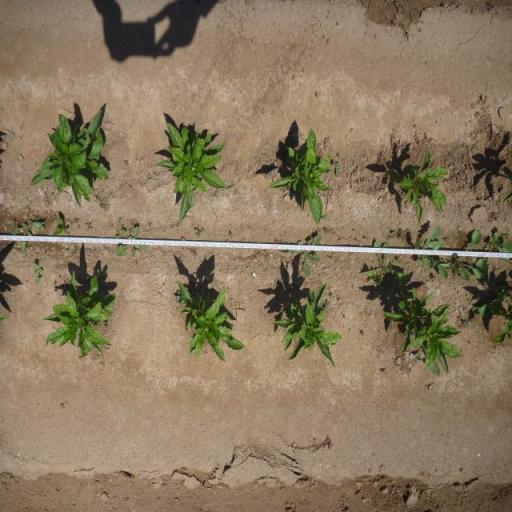plant: (28, 108, 110, 206), (378, 281, 465, 369), (42, 268, 124, 357), (158, 120, 228, 220), (178, 276, 248, 364), (270, 132, 332, 222), (272, 284, 337, 366), (387, 149, 450, 224), (488, 284, 512, 343)
weed: (368, 240, 408, 287), (446, 229, 484, 278), (278, 234, 322, 276), (416, 226, 446, 279), (476, 231, 512, 271), (14, 217, 42, 255), (116, 226, 146, 257), (472, 284, 492, 315), (32, 263, 45, 285), (54, 217, 68, 236), (321, 295, 334, 312), (192, 225, 206, 238), (332, 160, 341, 178), (458, 318, 472, 328), (74, 216, 81, 230), (85, 220, 93, 230), (388, 230, 396, 240), (52, 281, 58, 293), (398, 228, 404, 239), (381, 370, 389, 376), (323, 228, 330, 234), (11, 220, 18, 226), (324, 212, 329, 220), (123, 160, 129, 166), (180, 236, 186, 242), (335, 151, 340, 158), (396, 256, 401, 263), (274, 238, 279, 244), (118, 216, 122, 223), (229, 231, 233, 238), (146, 174, 150, 180)
